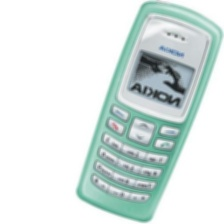phone: (74, 0, 224, 224)
